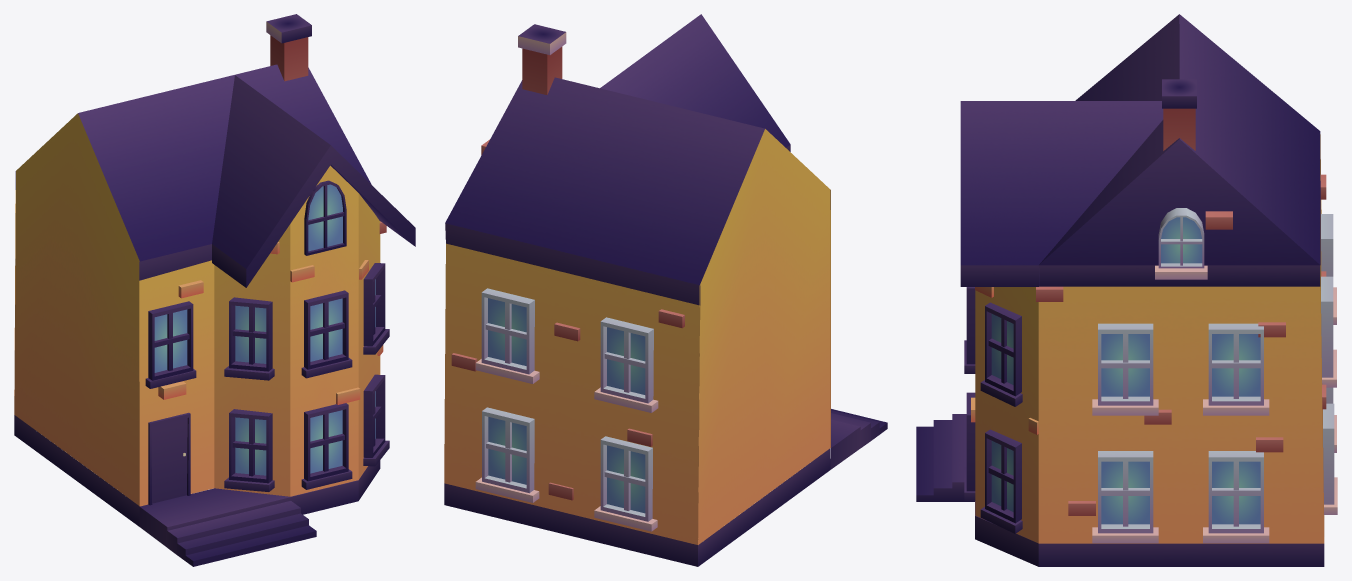
Rendered from SM_House_R_Short_02.fbx.
3 renders of one model, left to right at view 1: azimuth 30°, elevation 25°; view 2: azimuth 150°, elevation 25°; view 3: azimuth 270°, elevation 25°, orthographic. The views are drawn at different scales.
Visible parts, largest first — view 1: SM_House_R_Short_02; view 2: SM_House_R_Short_02; view 3: SM_House_R_Short_02.
Boxes of the visible parts, box(x1,y1,x2,y2) form: SM_House_R_Short_02: box(14, 14, 415, 566); SM_House_R_Short_02: box(444, 14, 887, 566); SM_House_R_Short_02: box(916, 14, 1337, 566).
Bounding box in the file's own units: 7.22 × 9.05 × 10.98.
